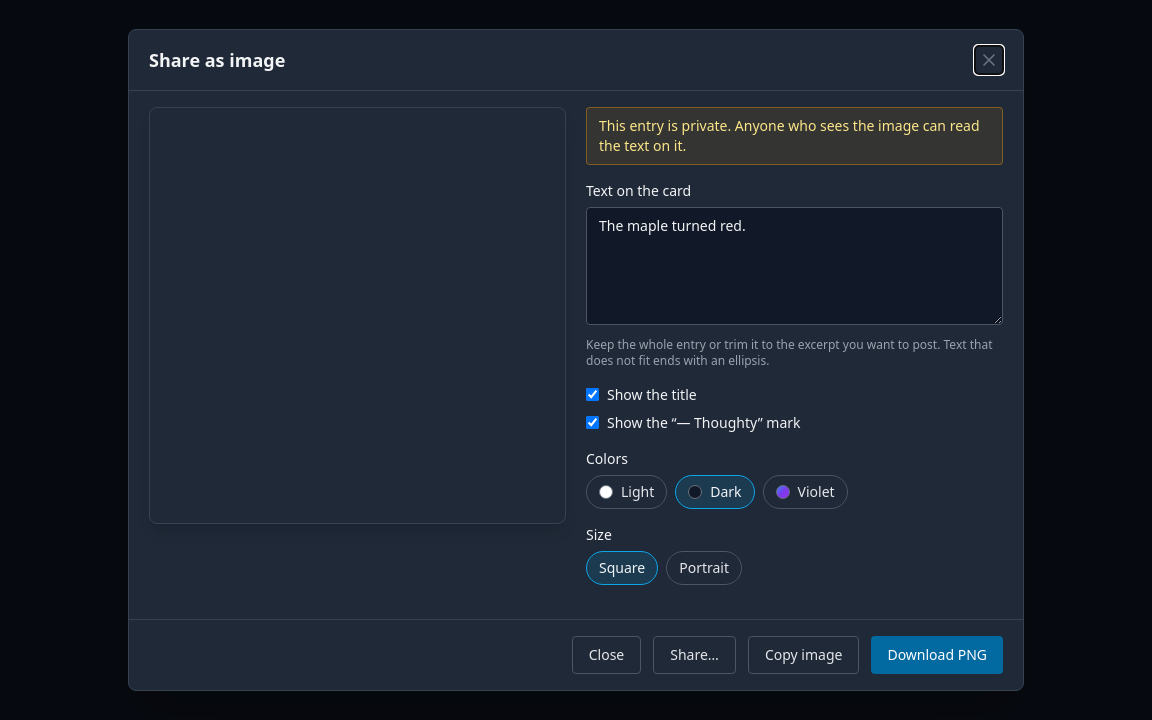
Test case: ShareImageDialog › shares the PNG through the share sheet, quietly when it is closed
Click the button "Share…" at [695, 655], box [653,636,736,674]
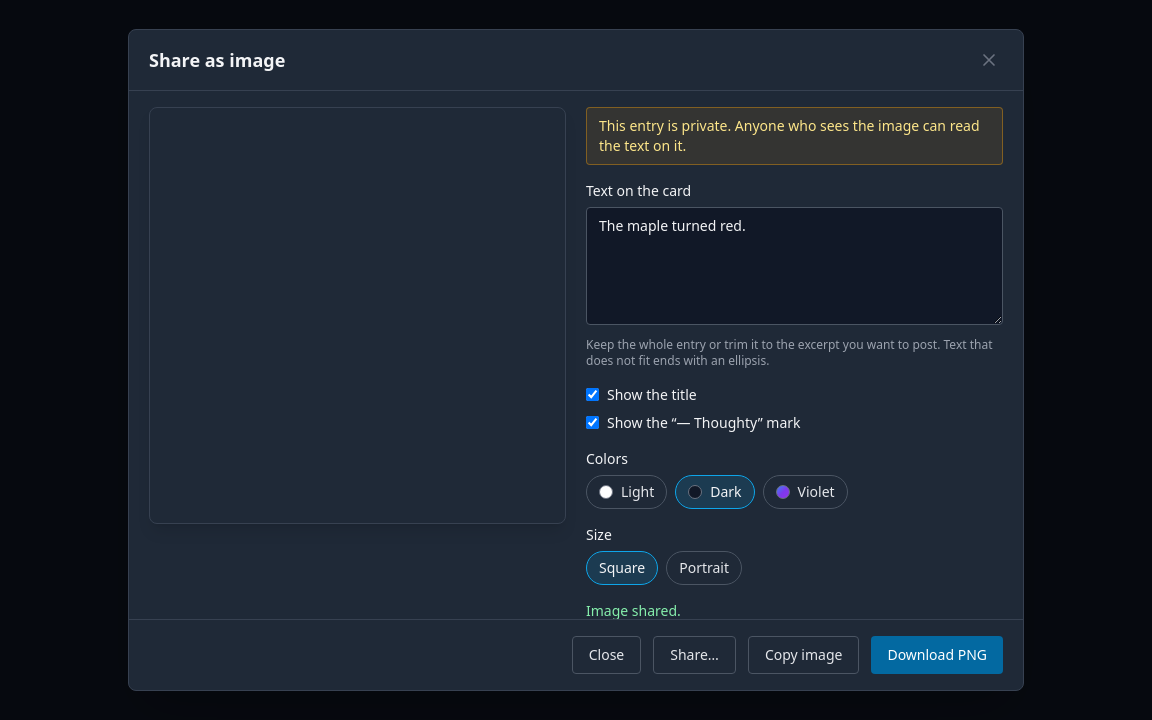
expect the text "Image shared." is shown: met, box [586,601,681,619]
Click the button "Share…" at [695, 655], box [653,636,736,674]
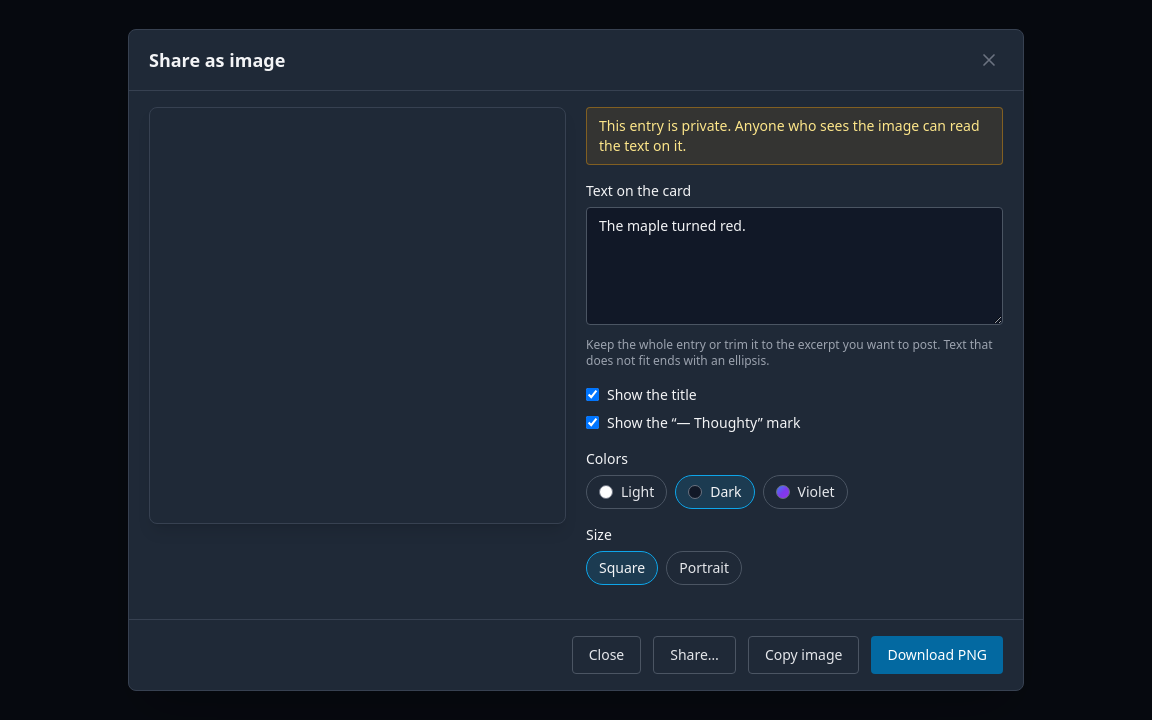
Click the button "Share…" at [695, 655], box [653,636,736,674]
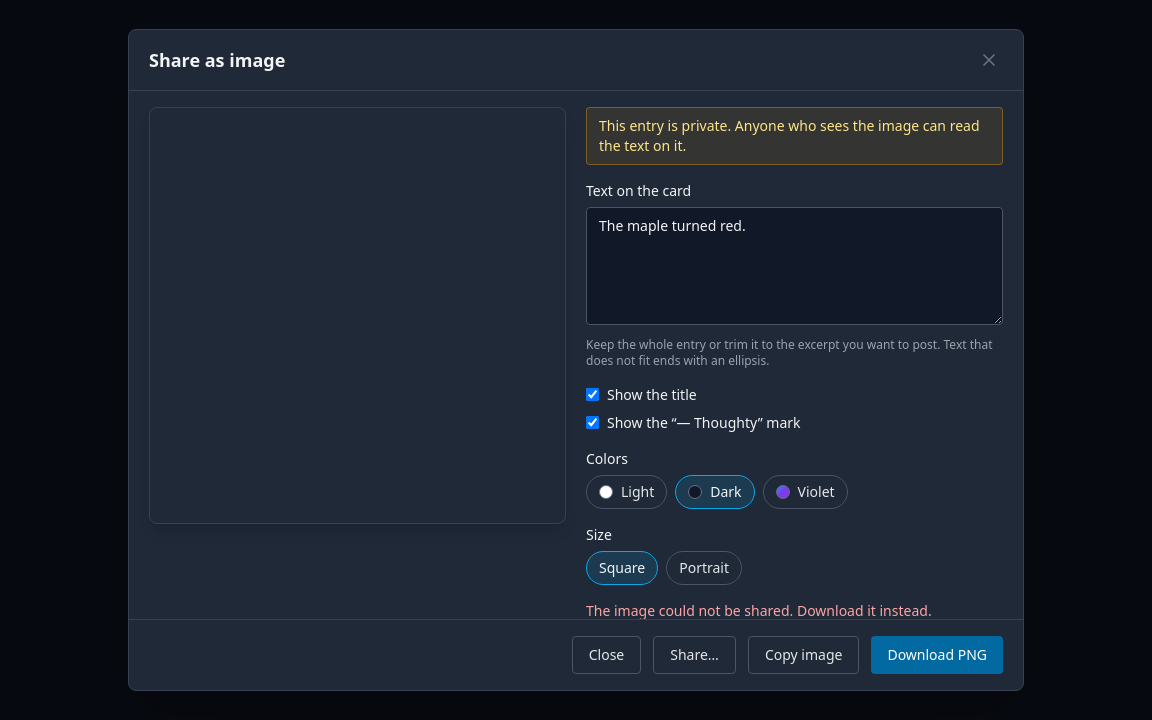
expect the text "The image could not be shared. Download it instead." is shown: met, box [586,601,932,619]
